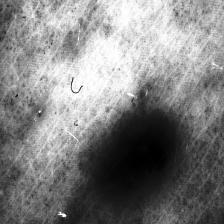Benign Marking or Mole: (92, 116, 181, 197)
